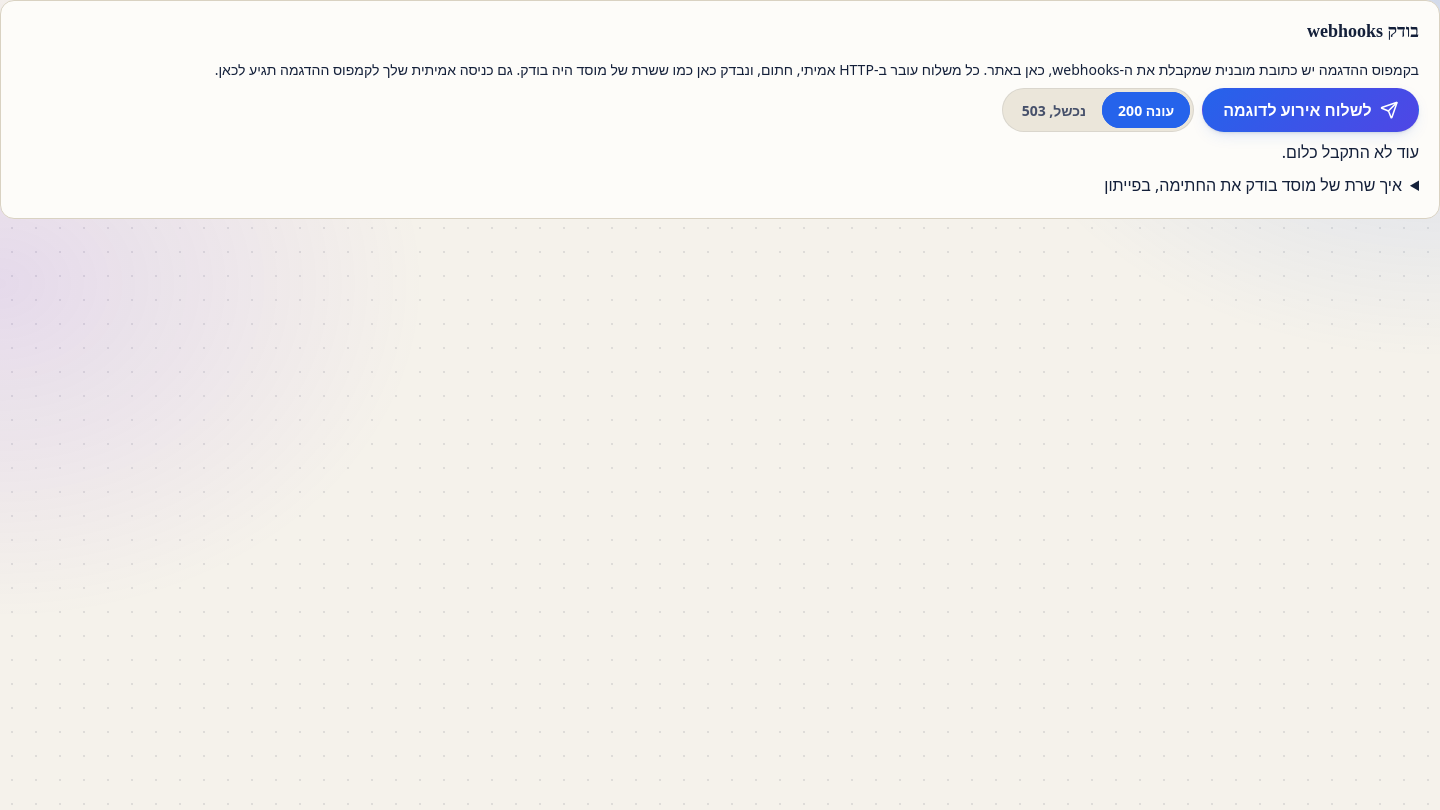
Test: WebhookTester › plays broken, and explains the try again
Click the button "נכשל, 503" at (1054, 110), box [1006, 92, 1102, 128]
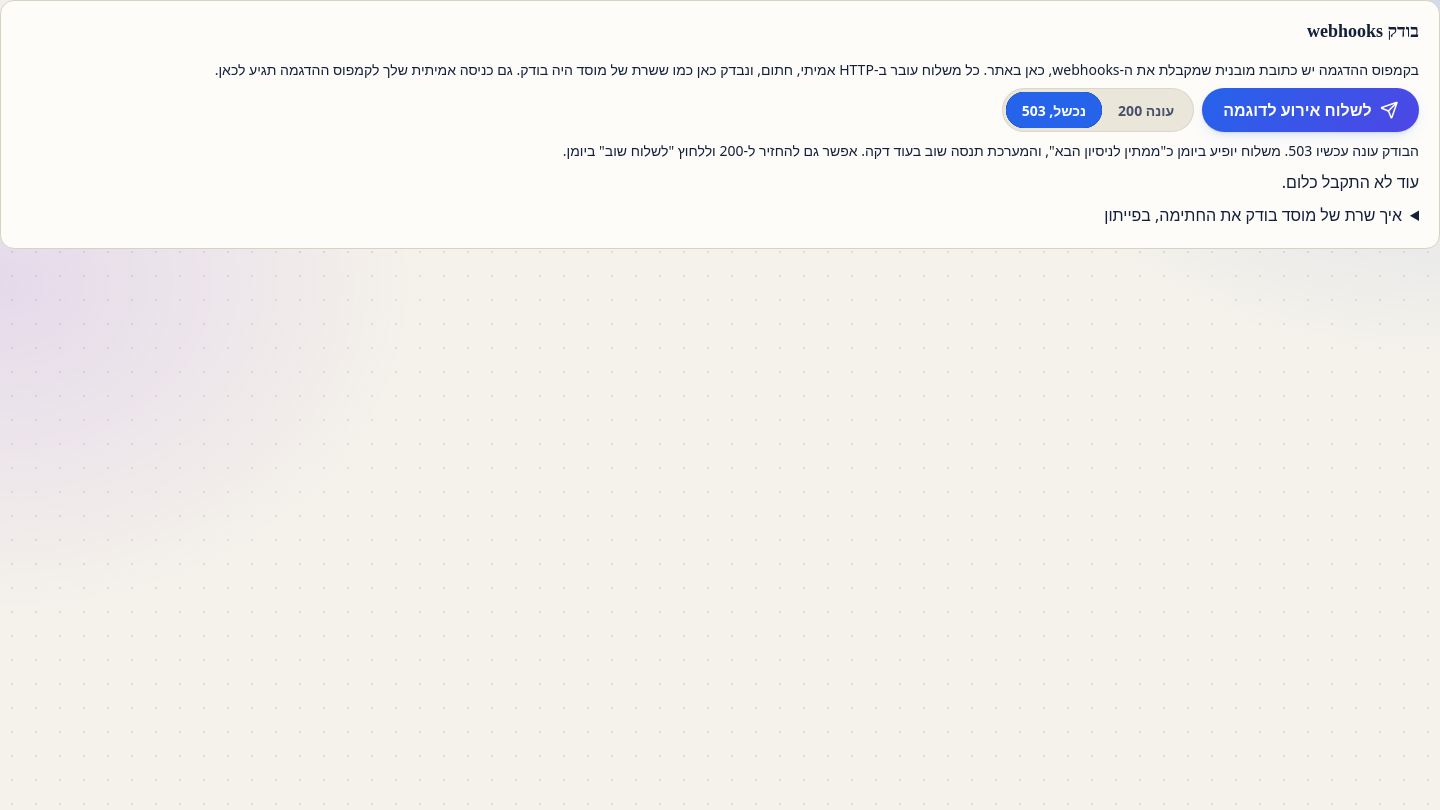
Check: the text "הבודק עונה עכשיו 503" is shown, box [563, 141, 1419, 160]
